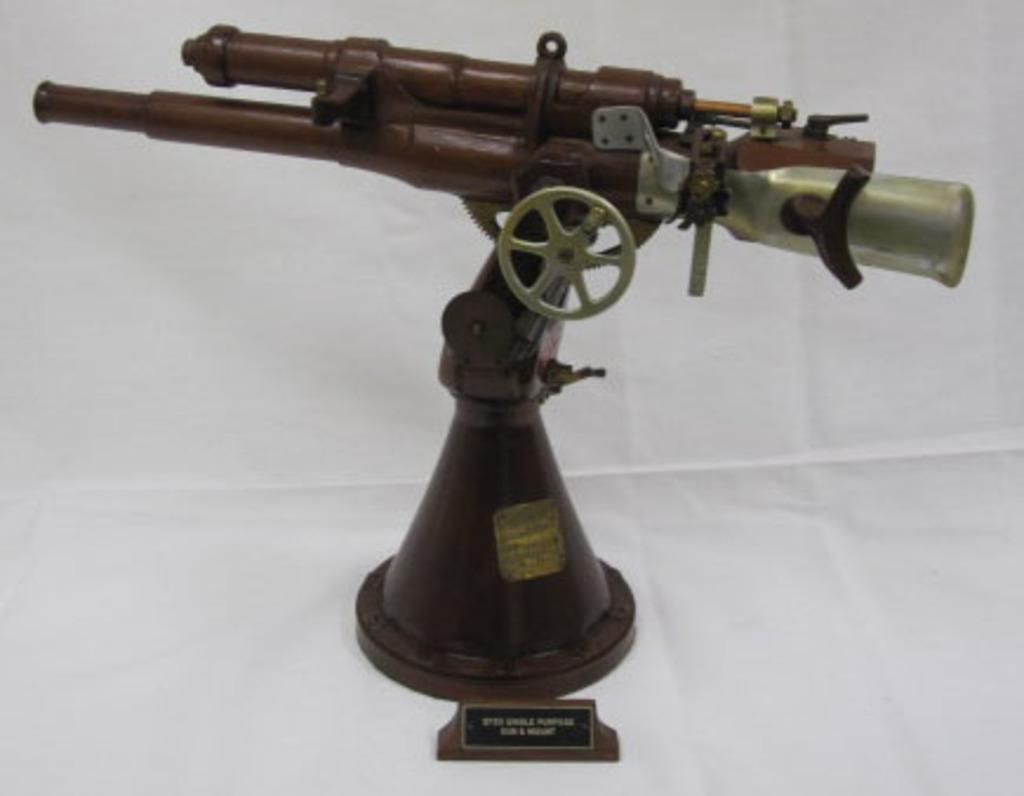Rifle: (212, 35, 1003, 344)
